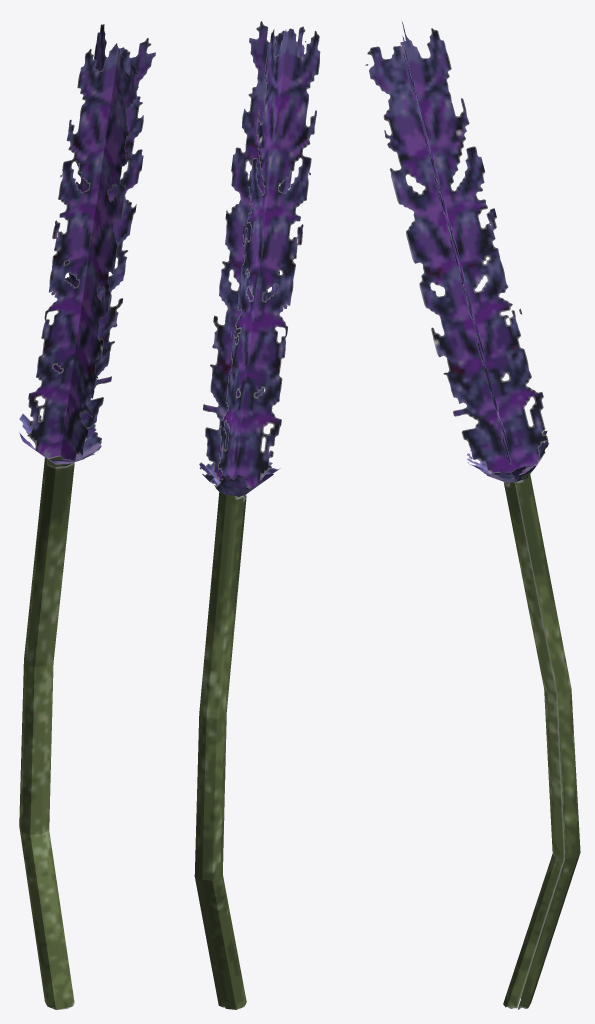
The model's file is SM_Dungeon_Lavender.fbx.
3 renders of one model, left to right at view 1: azimuth 30°, elevation 25°; view 2: azimuth 150°, elevation 25°; view 3: azimuth 270°, elevation 25°, orthographic. The views are drawn at different scales.
Visible parts, largest first — view 1: Lavender; view 2: Lavender; view 3: Lavender.
Boxes of the visible parts, x1,y1,x2,y2 form: Lavender: (19, 24, 155, 1009); Lavender: (194, 21, 320, 1009); Lavender: (365, 22, 580, 1009).
Size of the model in its own units: 4.82 by 56.19 by 11.64.
